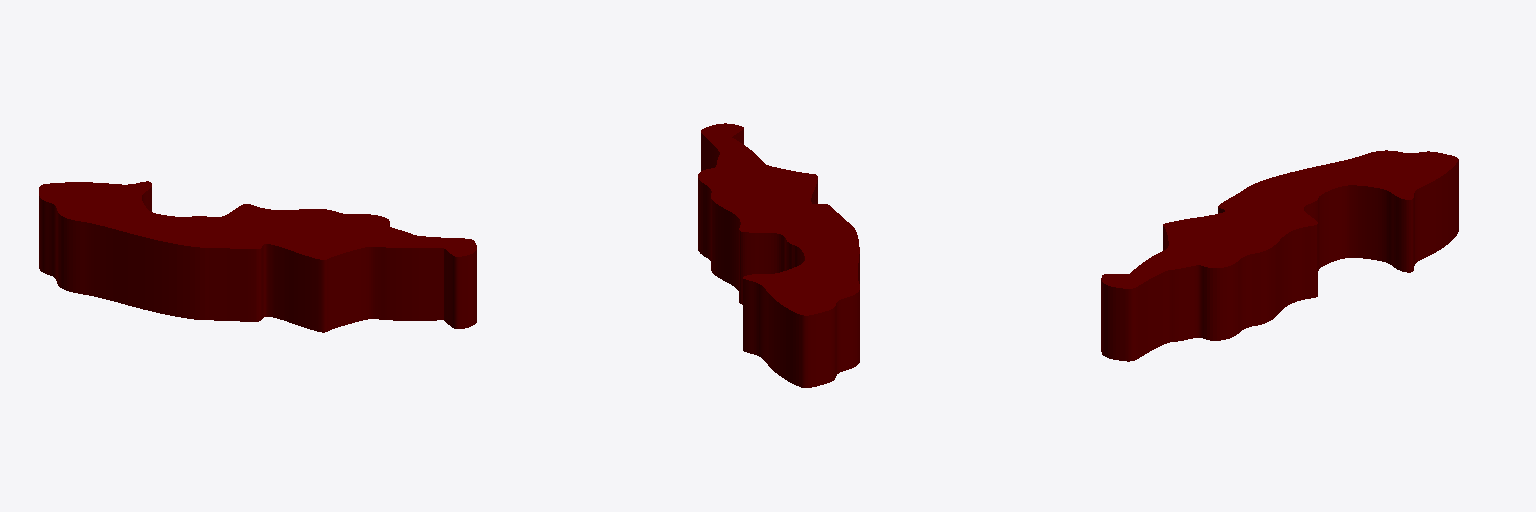
3 renders of one model, left to right at view 1: azimuth 30°, elevation 25°; view 2: azimuth 150°, elevation 25°; view 3: azimuth 270°, elevation 25°, orthographic.
Visible parts, largest first — view 1: Curve.019_path4214; view 2: Curve.019_path4214; view 3: Curve.019_path4214.
Boxes of the visible parts, <box> form: Curve.019_path4214: <box>39,181,476,332</box>; Curve.019_path4214: <box>698,123,859,387</box>; Curve.019_path4214: <box>1101,150,1458,361</box>.
Bounding box in the file's own units: 0.4096 × 0.1 × 0.4462.